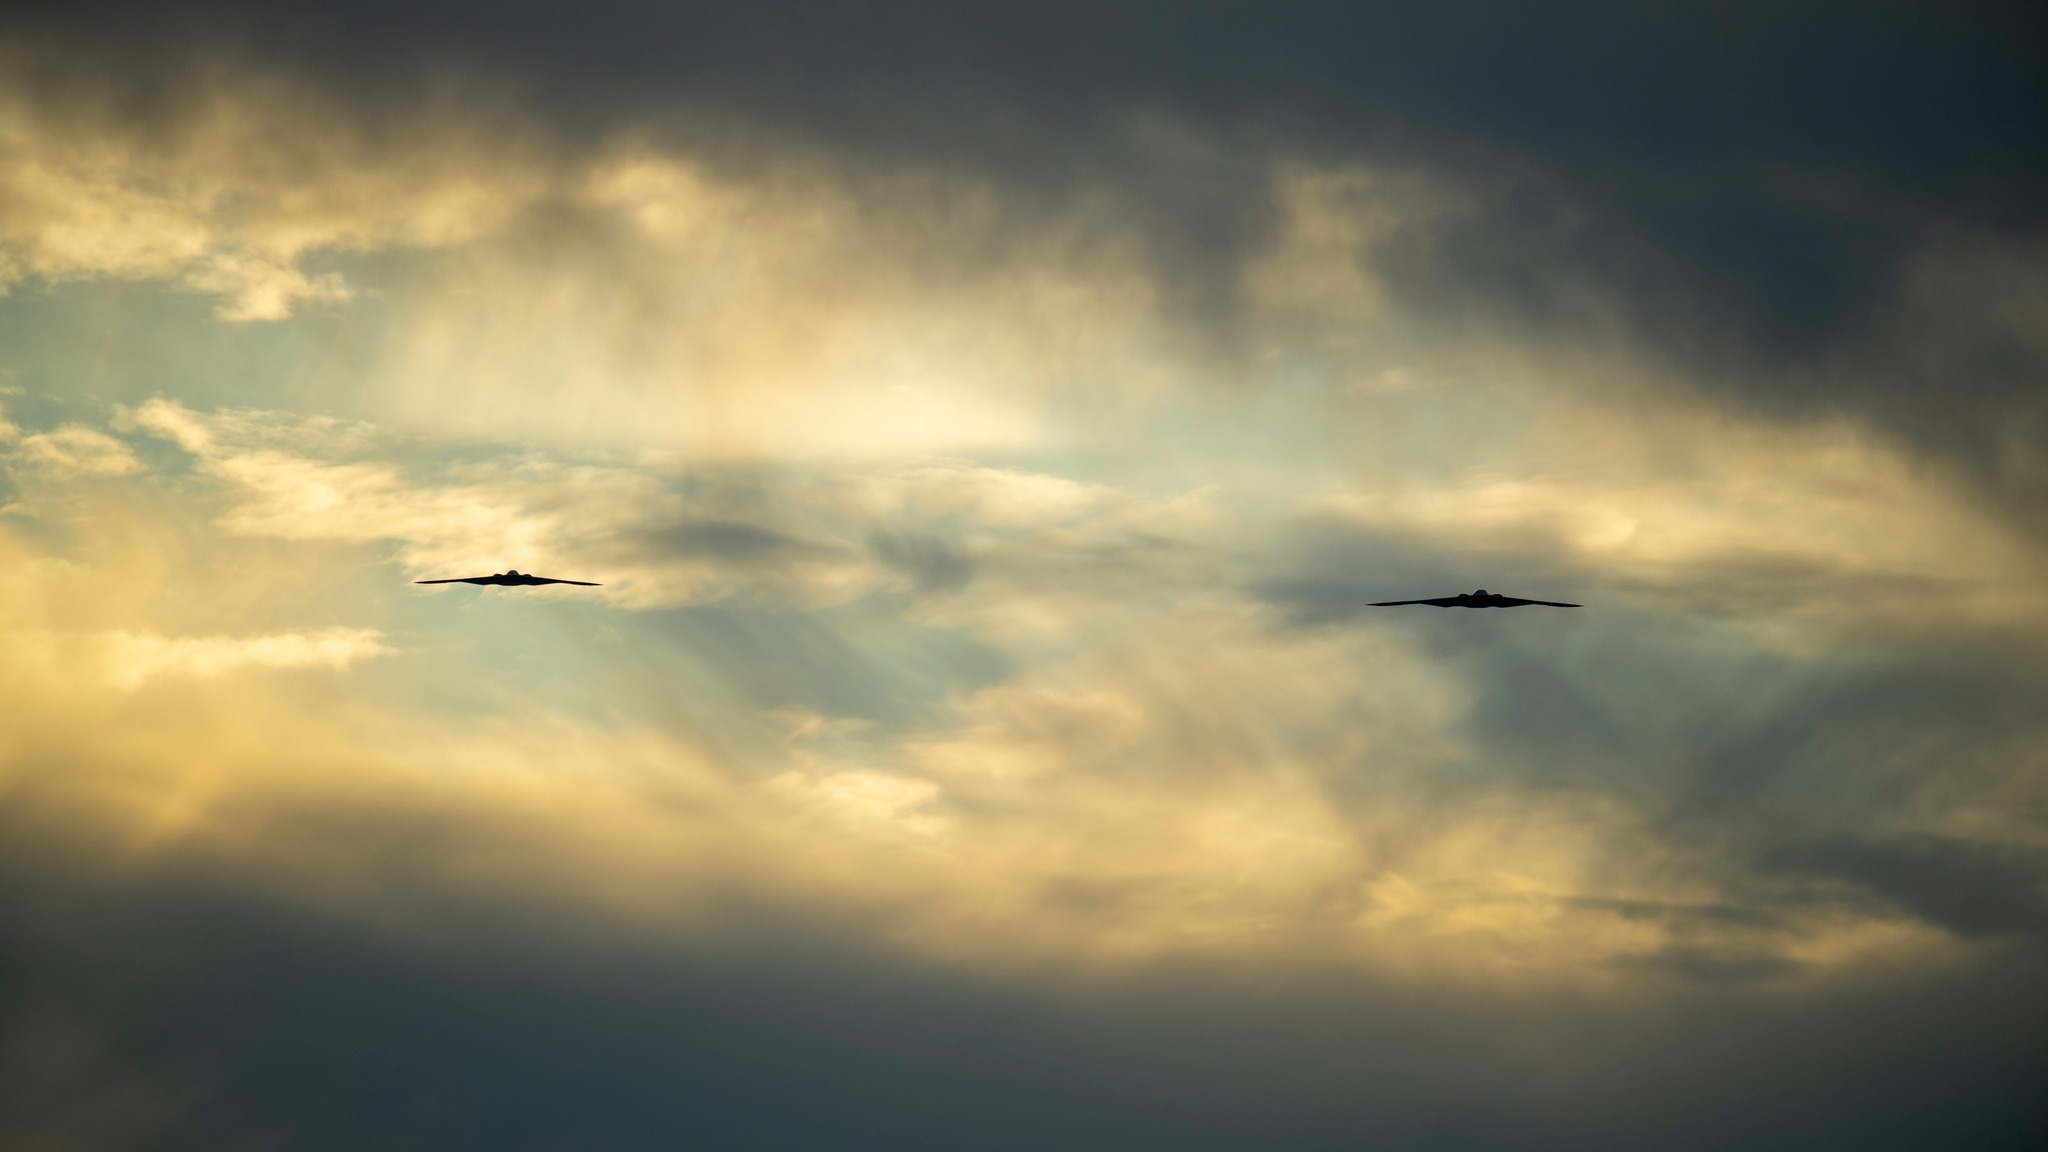B2: (1364, 589, 1585, 609), (412, 570, 605, 587)
